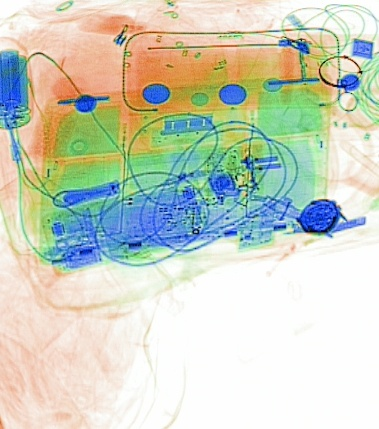powerbank: (2, 35, 39, 131)
